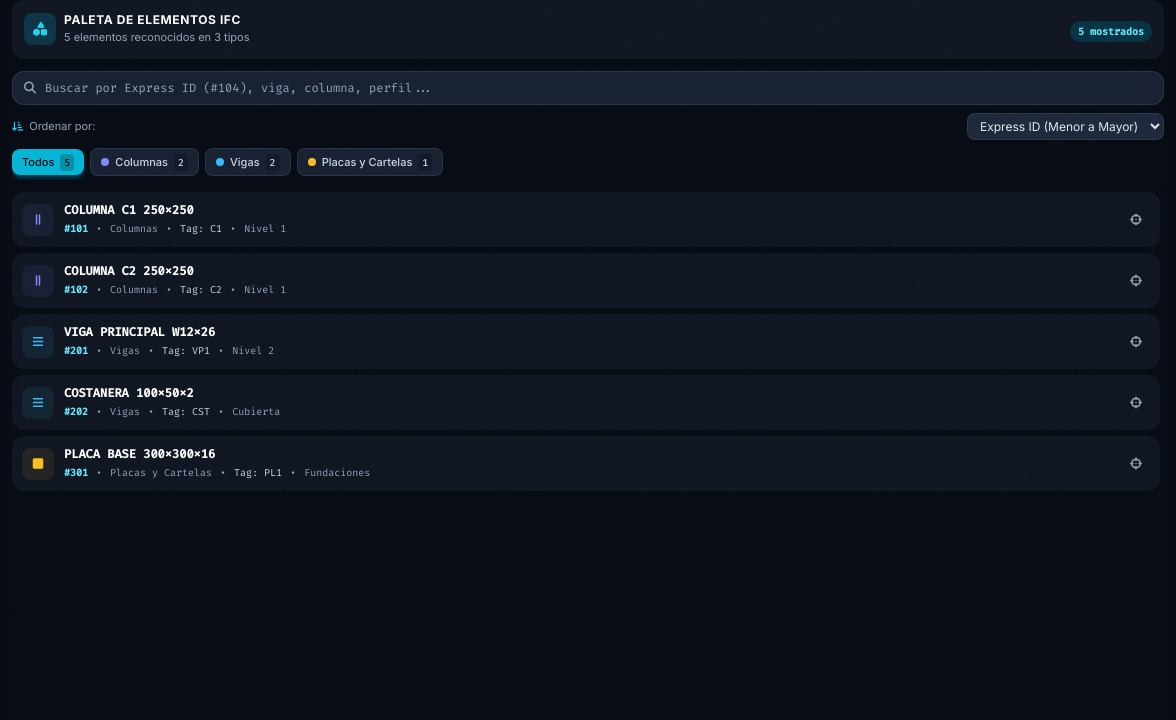
Test: IfcElementsPalette - Paleta e Inventario de Elementos IFC › permite filtrar elementos mediante el buscador de texto en tiempo real
The width and height of the screenshot is (1176, 720).
In the field with placeholder "Buscar por Express ID (#104), viga, columna, perfil...": (588,88) [12, 71, 1164, 105], type "Costanera"
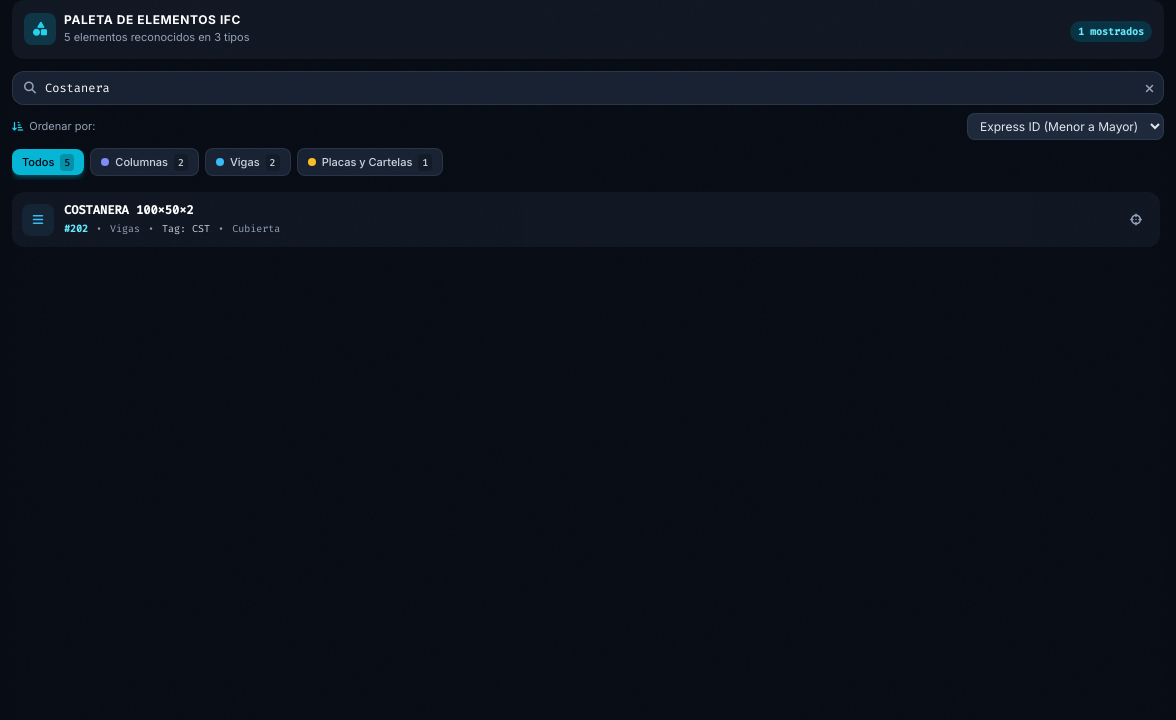
Expected: the text "COSTANERA 100x50x2" is shown, [64, 202, 194, 218]
Now the text "COLUMNA C1 250x250" is gone
Now the text "1 mostrados" is shown, box [1070, 21, 1152, 42]
